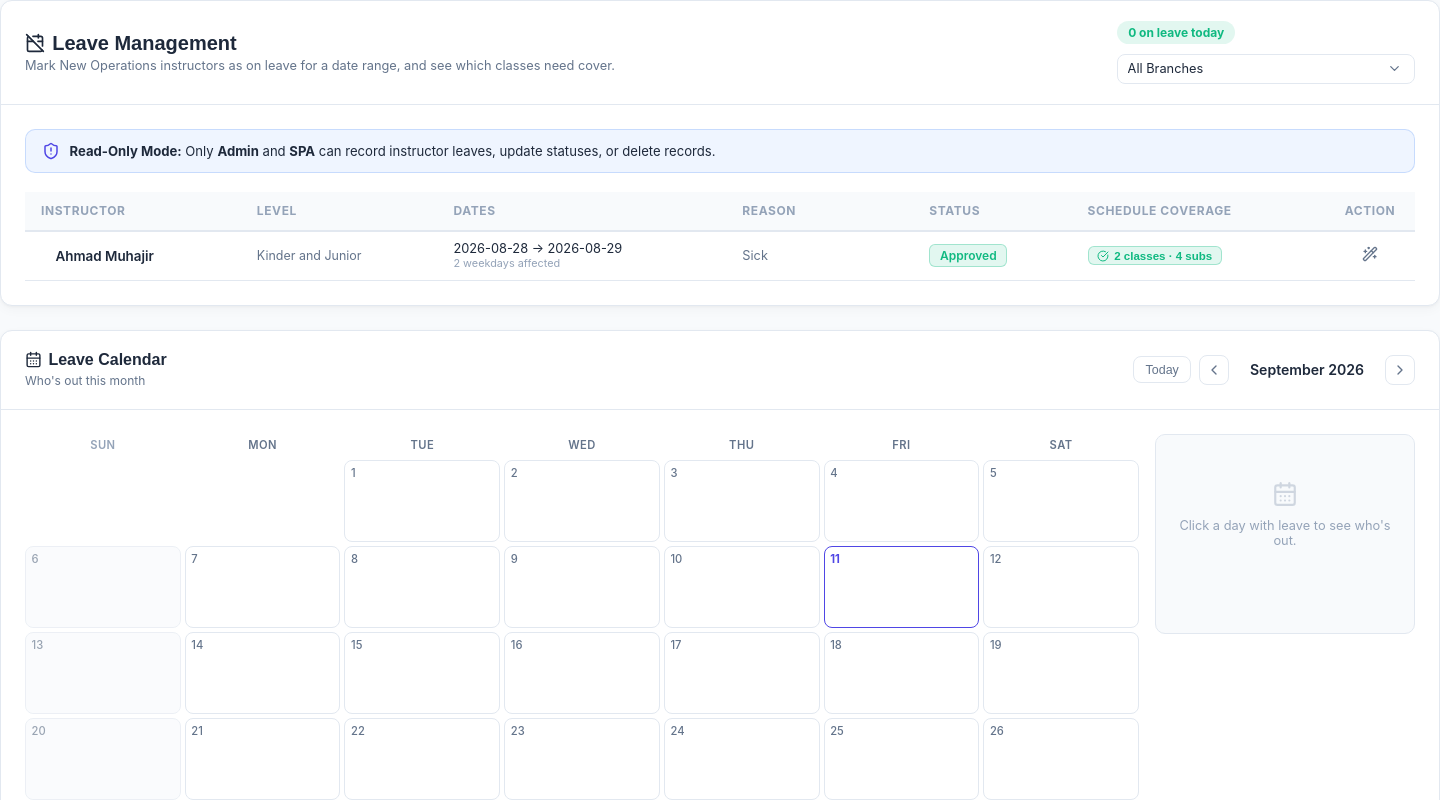
Test case: NewLeavePage Substitute Recommendations & Schedule Coverage › includes other branches when cross-branch toggle is enabled
Click the button "2 classes · 4 subs" at point(1155, 256), box left=1088, top=246, right=1222, bottom=265
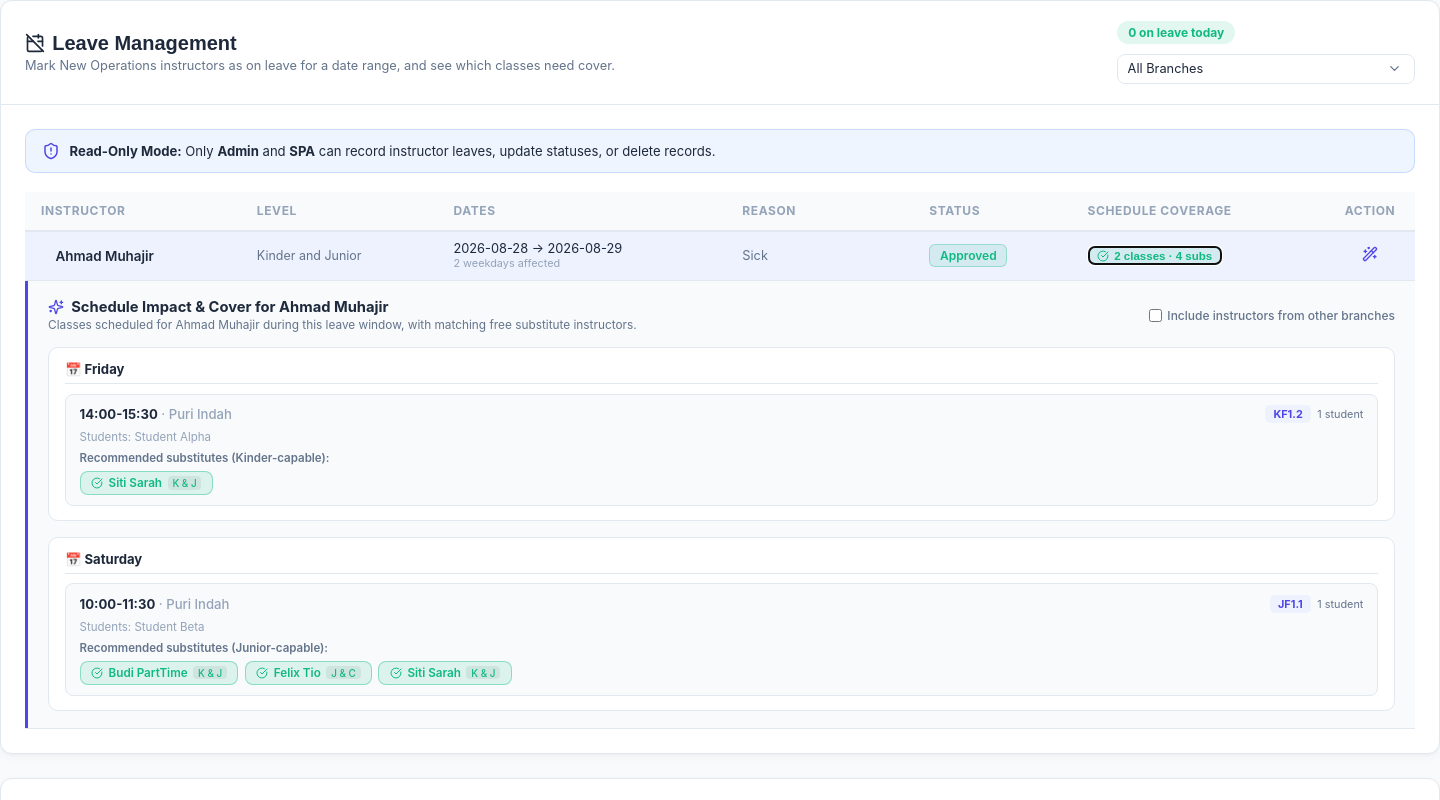
Expected: the text "CrossBranch Teacher" is not shown
Result: the checkbox labelled "Include instructors from other branches" is not checked
Note: Enable toggle
Click the checkbox labelled "Include instructors from other branches" at point(1155, 315), box left=1149, top=309, right=1162, bottom=322
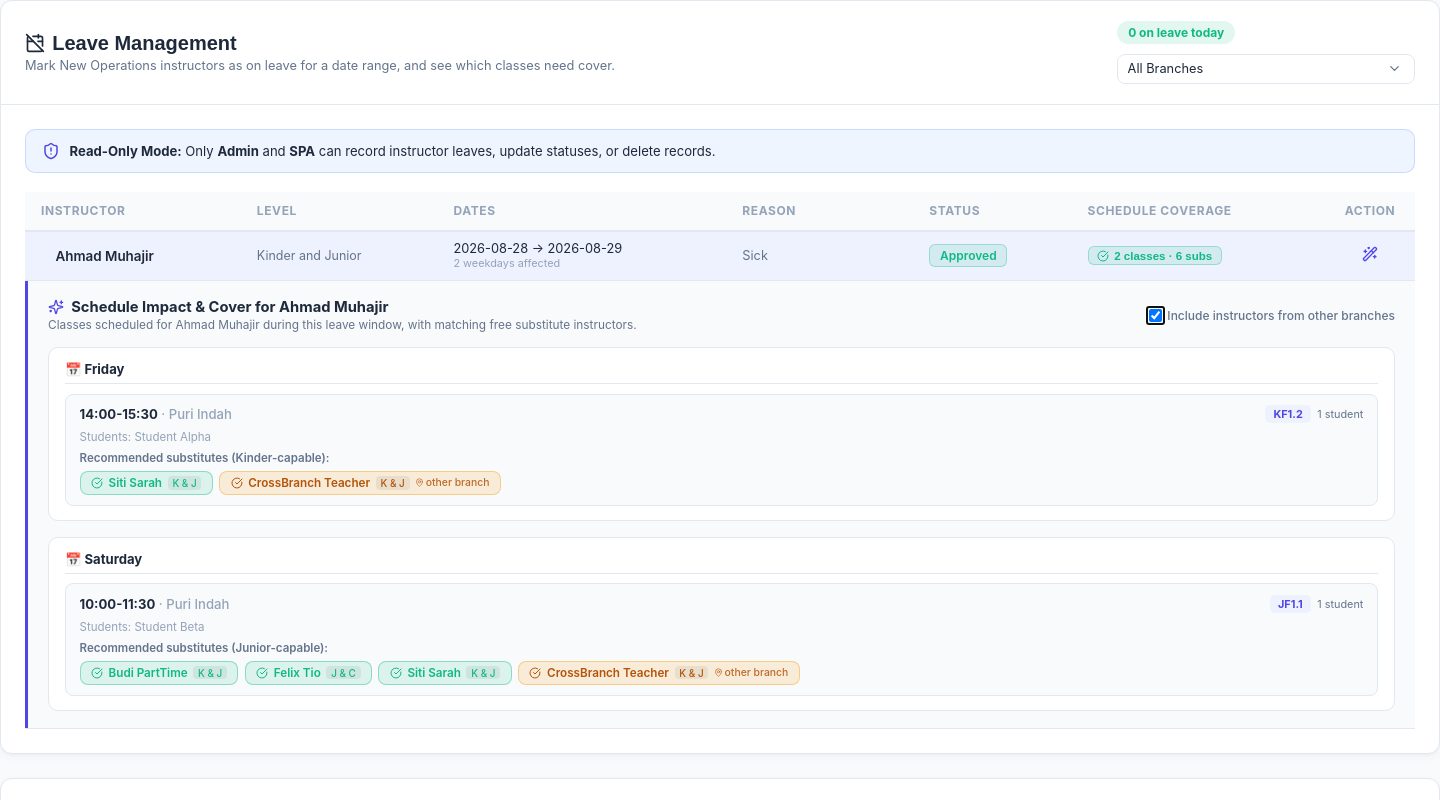
Result: the checkbox labelled "Include instructors from other branches" is checked at left=1149, top=309, right=1162, bottom=322
Result: the text "CrossBranch Teacher" below "(Kinder-capable)" is shown at left=248, top=476, right=370, bottom=490
